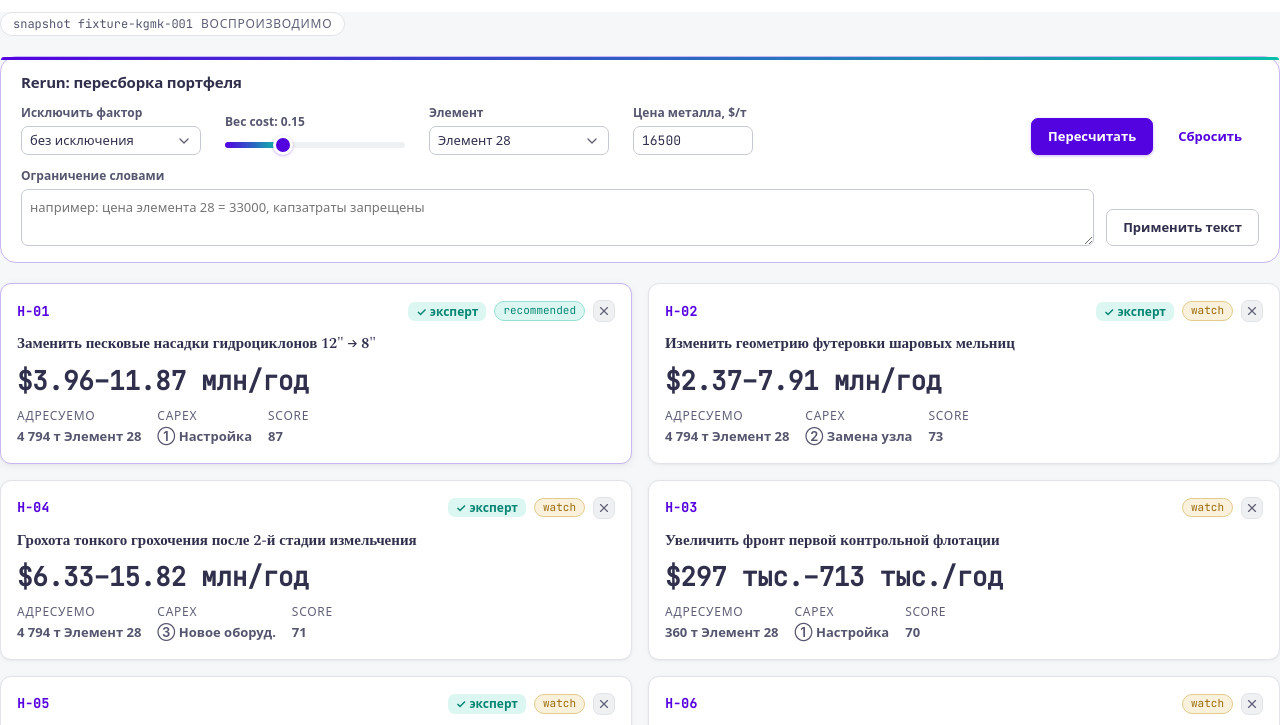
Scenario: HypothesisBoard › recomputes the board when a factor is excluded
This screenshot has width=1280, height=725.
expect the text "rejected" is not shown: met
Click the dropdown named "Исключить фактор": (111, 141) [21,126,201,155]
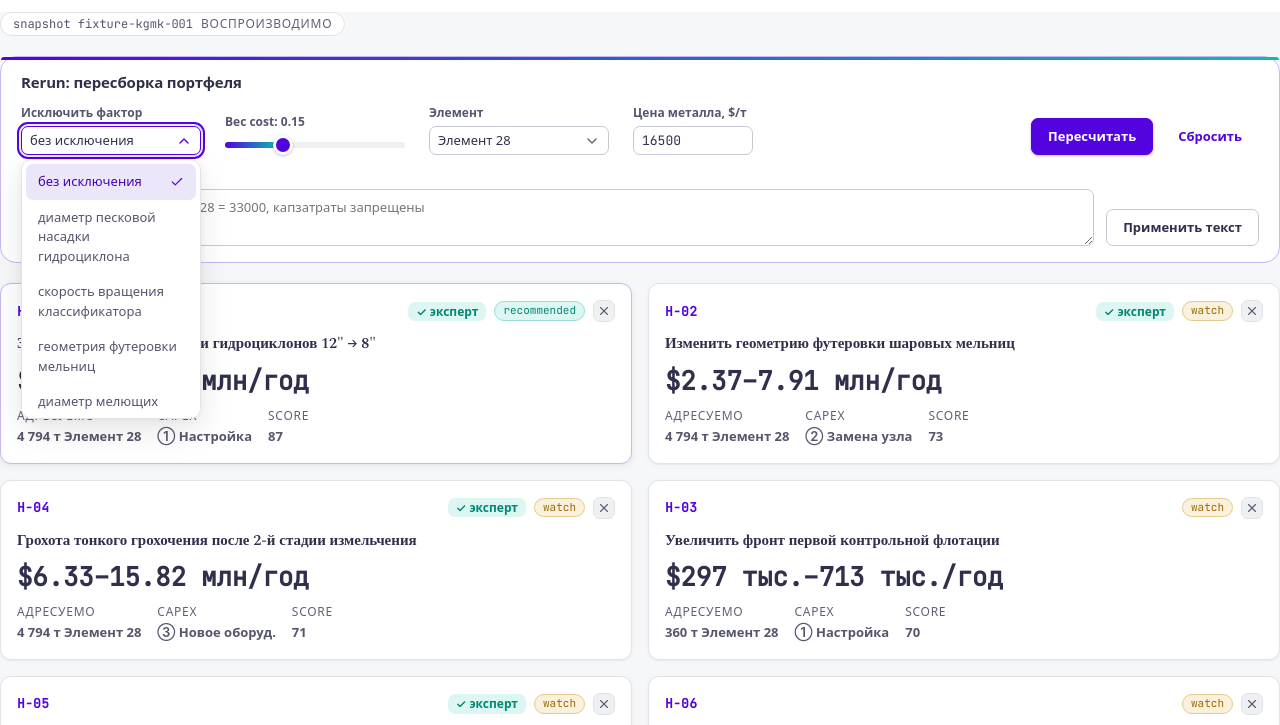
Click the option "диаметр песковой насадки гидроциклона": (97, 217) [38,208,156,265]
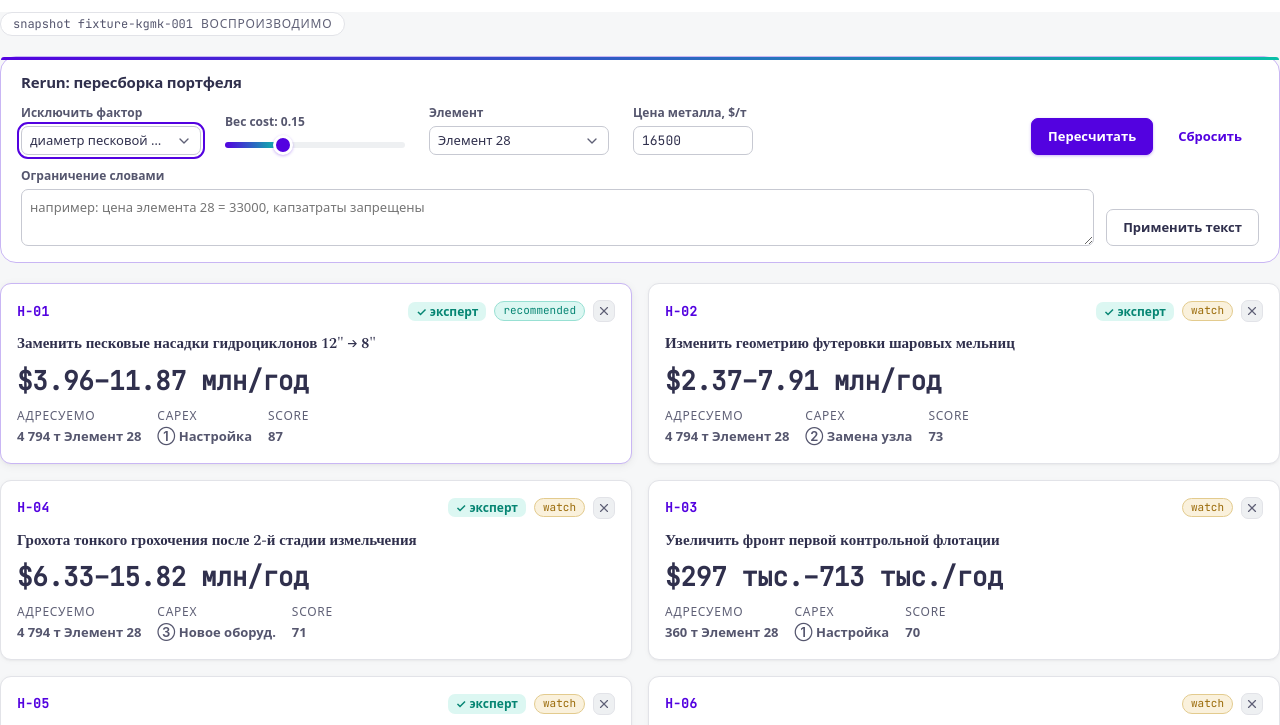
Click the button "Пересчитать": (1092, 137) [1031,118,1153,155]
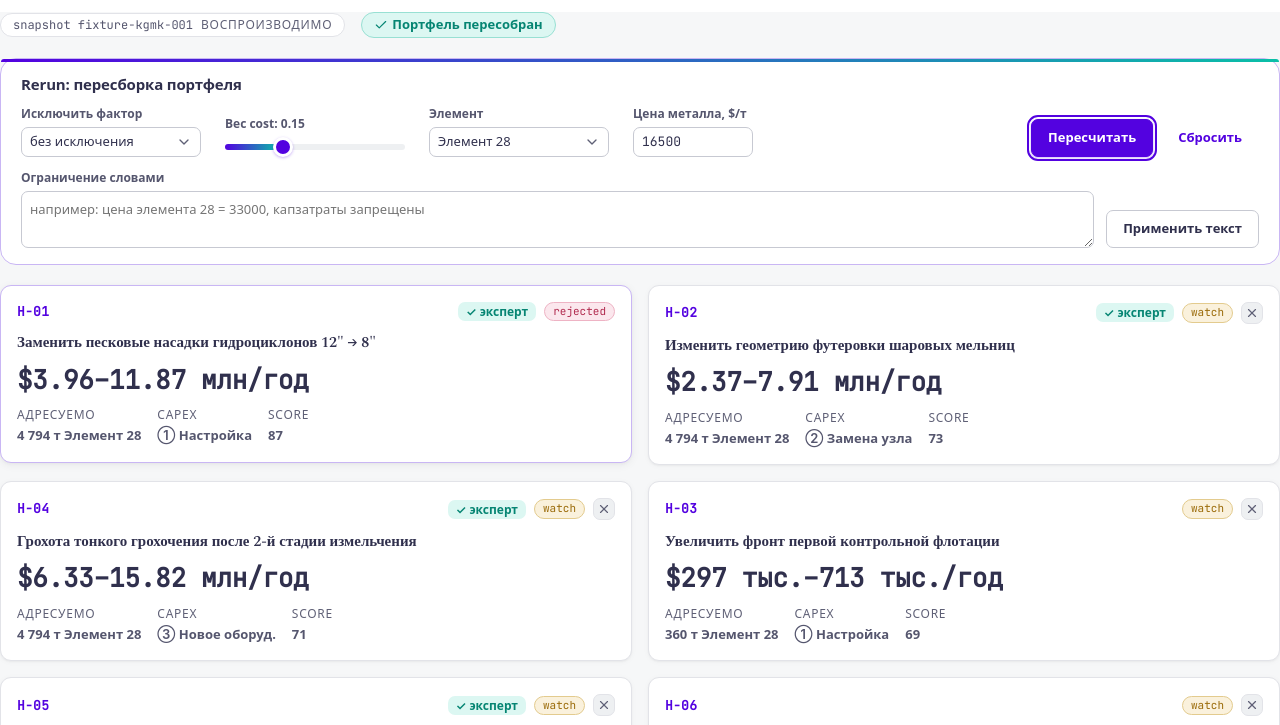
expect the text "rejected" is shown: met, box [544,302,615,321]
expect the text "Портфель пересобран" is shown: met, box [361,12,556,38]
